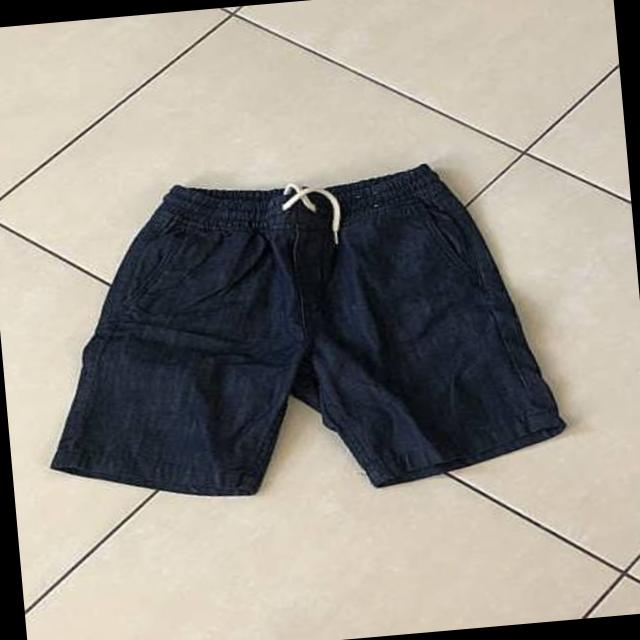SHORT: (15, 133, 590, 520)
